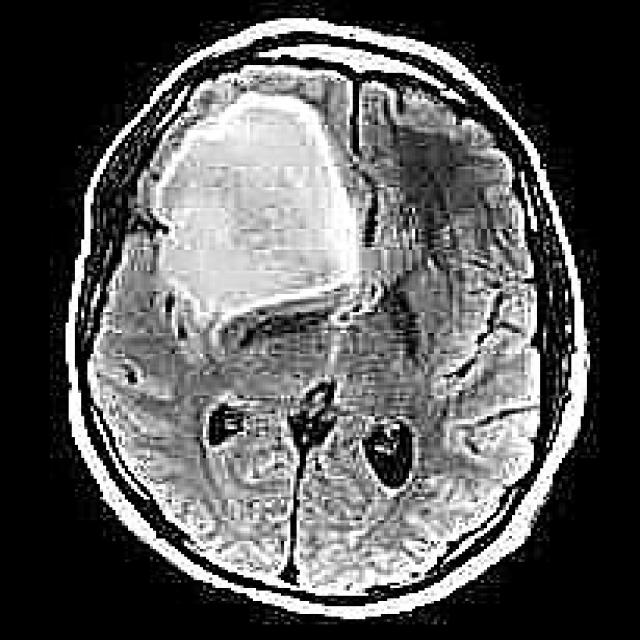Tumor-Cell: (164, 110, 349, 328)
